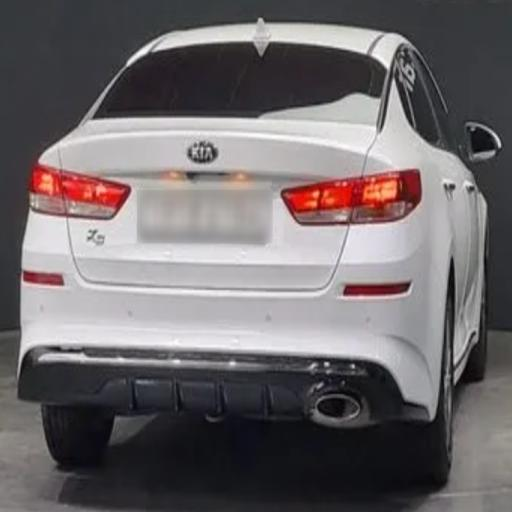normal: (37, 0, 480, 493)
